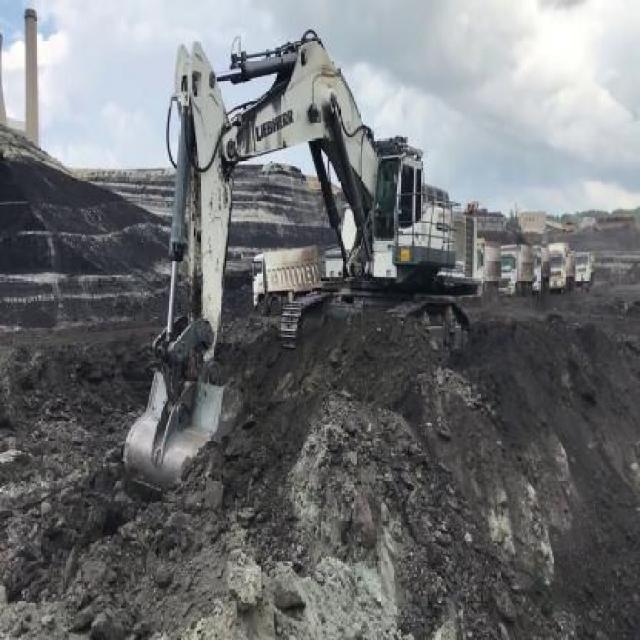Dump Truck: (252, 247, 321, 308), (498, 245, 531, 293), (547, 244, 575, 290), (533, 247, 545, 291), (576, 251, 592, 283)
Excavator: (122, 23, 484, 495)
